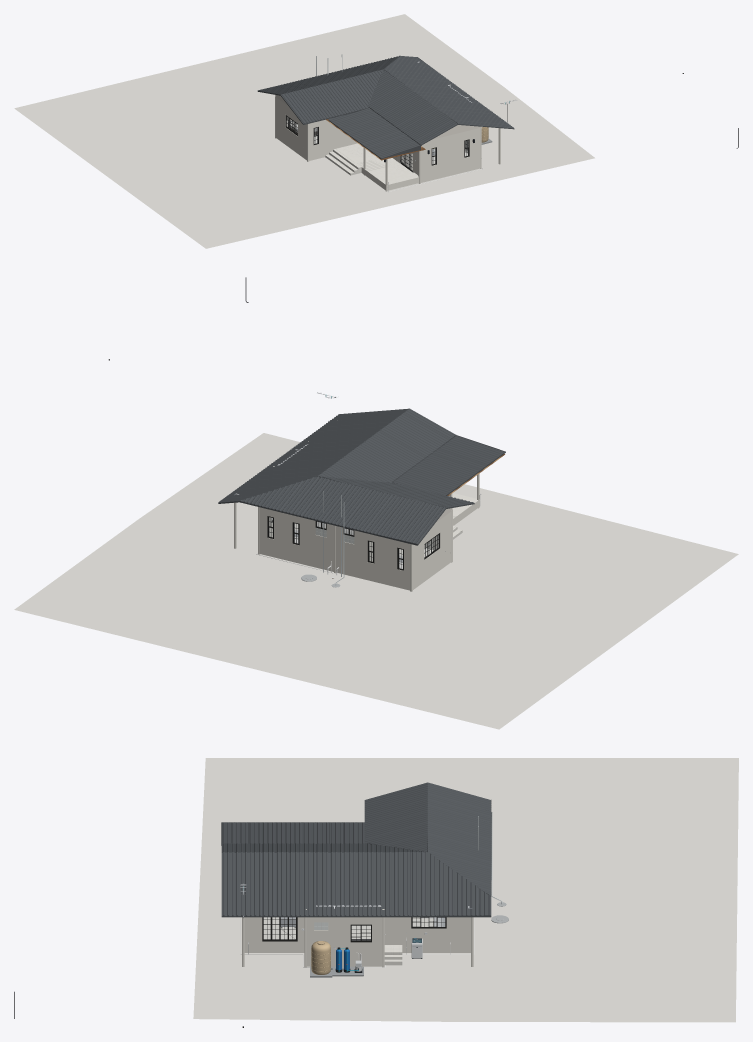
Rendered from house-stable-v413.glb.
3 renders of one model, top to bottom at view 1: azimuth 30°, elevation 25°; view 2: azimuth 150°, elevation 25°; view 3: azimuth 270°, elevation 25°, orthographic. The views are drawn at different scales.
Visible parts, largest first — view 1: site_xcqfx3ldie6e0lfq, d, c, b, slab_ml0yinv0445zy6c4, merged-roof.001, ผนังนอก_ใต้_นั่งเล่น, a, ผนังนอก_ตะวันตก_นอน1, ผนังนอก_ใต้_นอน1, merged-stair.001; view 2: site_xcqfx3ldie6e0lfq, a, d, ผนังนอก_เหนือ_นอน1+น้ำ1+น้ำ2+นอน2, c, merged-roof.001, slab_ml0yinv0445zy6c4, b, ผนังนอก_ตะวันตก_นอน1; view 3: site_xcqfx3ldie6e0lfq, d, a, b, merged-roof.001, slab_ml0yinv0445zy6c4, ผนังนอก_ตะวันออก_เก็บของ+นั่งเล่น, ผนังนอก_ตะวันออก_นอน2, c, ผนังนอก_ตะวันออก_นั่งเล่น, ถังน้ำดี1000_ตัวถัง.
Part boxes in pixels (<box>): site_xcqfx3ldie6e0lfq: <box>14,14,594,248</box>; d: <box>384,55,514,129</box>; c: <box>368,69,457,145</box>; b: <box>280,69,383,124</box>; slab_ml0yinv0445zy6c4: <box>276,132,480,190</box>; merged-roof.001: <box>328,108,421,159</box>; ผนังนอก_ใต้_นั่งเล่น: <box>421,128,480,176</box>; a: <box>257,55,399,95</box>; ผนังนอก_ตะวันตก_นอน1: <box>276,97,306,154</box>; ผนังนอก_ใต้_นอน1: <box>309,119,336,154</box>; merged-stair.001: <box>325,148,361,175</box>; site_xcqfx3ldie6e0lfq: <box>14,433,738,729</box>; a: <box>239,476,446,545</box>; d: <box>218,408,409,503</box>; ผนังนอก_เหนือ_นอน1+น้ำ1+น้ำ2+นอน2: <box>259,507,409,583</box>; c: <box>318,409,456,482</box>; merged-roof.001: <box>392,435,505,495</box>; slab_ml0yinv0445zy6c4: <box>259,493,479,590</box>; b: <box>318,476,474,508</box>; ผนังนอก_ตะวันตก_นอน1: <box>413,511,451,582</box>; site_xcqfx3ldie6e0lfq: <box>193,758,738,1022</box>; d: <box>221,852,491,917</box>; a: <box>427,782,491,896</box>; b: <box>364,782,427,851</box>; merged-roof.001: <box>221,822,364,845</box>; slab_ml0yinv0445zy6c4: <box>244,917,470,966</box>; ผนังนอก_ตะวันออก_เก็บของ+นั่งเล่น: <box>306,917,382,958</box>; ผนังนอก_ตะวันออก_นอน2: <box>384,917,470,944</box>; c: <box>221,843,426,852</box>; ผนังนอก_ตะวันออก_นั่งเล่น: <box>244,917,304,944</box>; ถังน้ำดี1000_ตัวถัง: <box>311,941,330,974</box>.
Bounding box in the file's own units: 44.31 × 7.48 × 40.78.
Materials: 157 (50 with a texture image).
